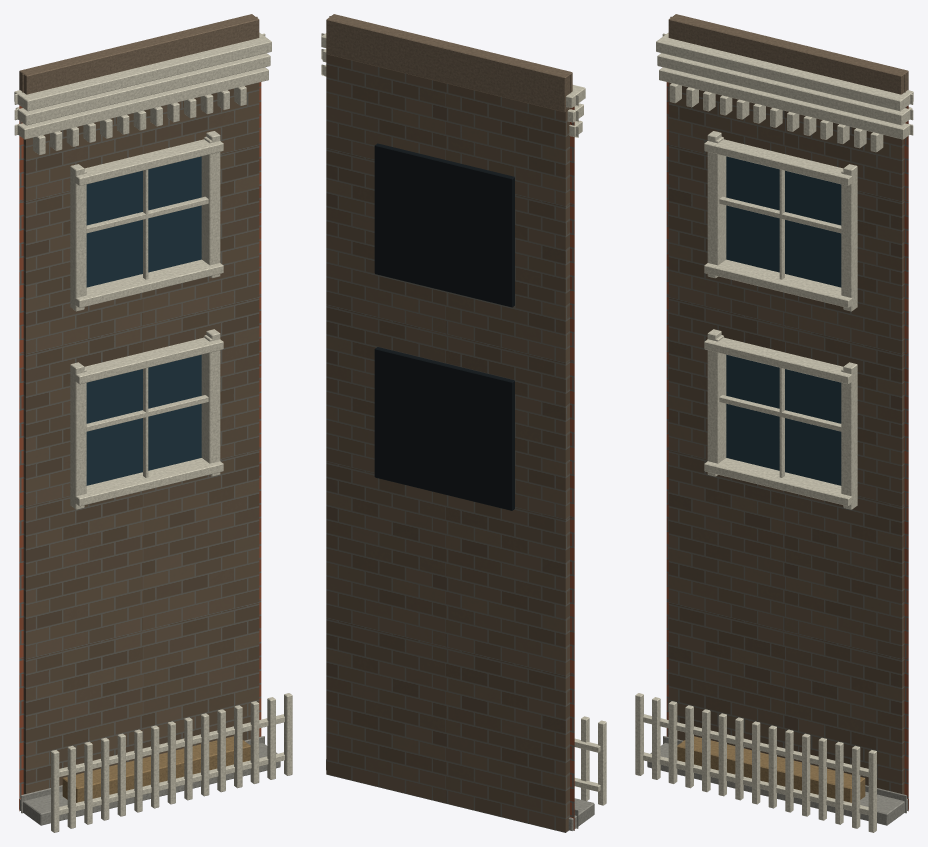
File: VICT18_lod1.glb
3 renders of one model, left to right at view 1: azimuth 30°, elevation 25°; view 2: azimuth 150°, elevation 25°; view 3: azimuth 330°, elevation 25°, orthographic. The views are drawn at different scales.
Parts seen in each view (by area): view 1: VICT18_FRONT_LOD1; view 2: VICT18_FRONT_LOD1; view 3: VICT18_FRONT_LOD1.
Boxes of the visible parts, <box> form: VICT18_FRONT_LOD1: <box>14,14,292,832</box>; VICT18_FRONT_LOD1: <box>321,14,606,832</box>; VICT18_FRONT_LOD1: <box>635,14,913,832</box>.
Size of the model in its own units: 3.44 by 9.66 by 0.95.
Materials: 9 (7 with a texture image).
